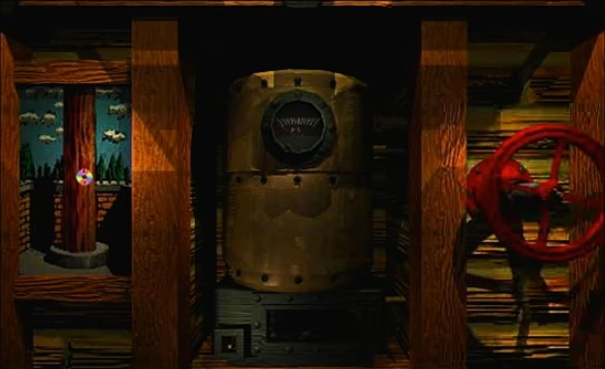Waiting: (73, 166, 94, 186)
